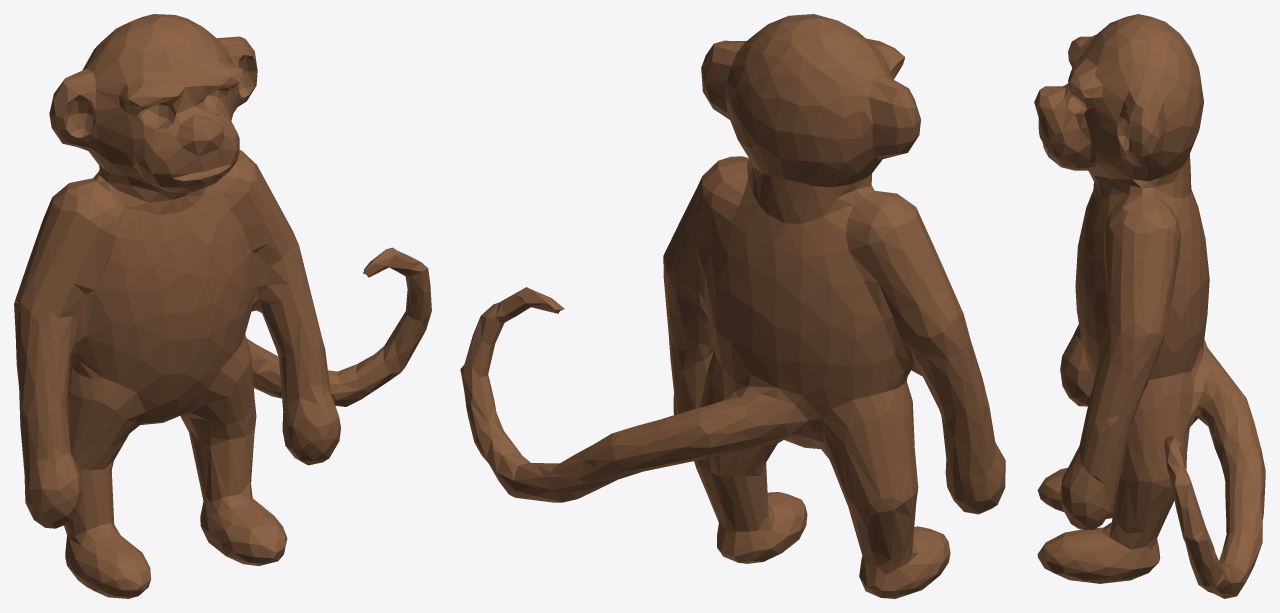
The model's file is NEW_RECOVERY_040_LOD1.fbx.
3 views of the same model, side by side, from view 1: azimuth 30°, elevation 25°; view 2: azimuth 150°, elevation 25°; view 3: azimuth 270°, elevation 25° (orthographic). The views are drawn at different scales.
Visible parts, largest first — view 1: Monkey; view 2: Monkey; view 3: Monkey.
Part boxes in pixels (box(x1,y1,x2,y2)): Monkey: box(14, 14, 431, 598); Monkey: box(460, 14, 1005, 598); Monkey: box(1034, 14, 1265, 598).
Size of the model in its own units: 291 by 130 by 326.
